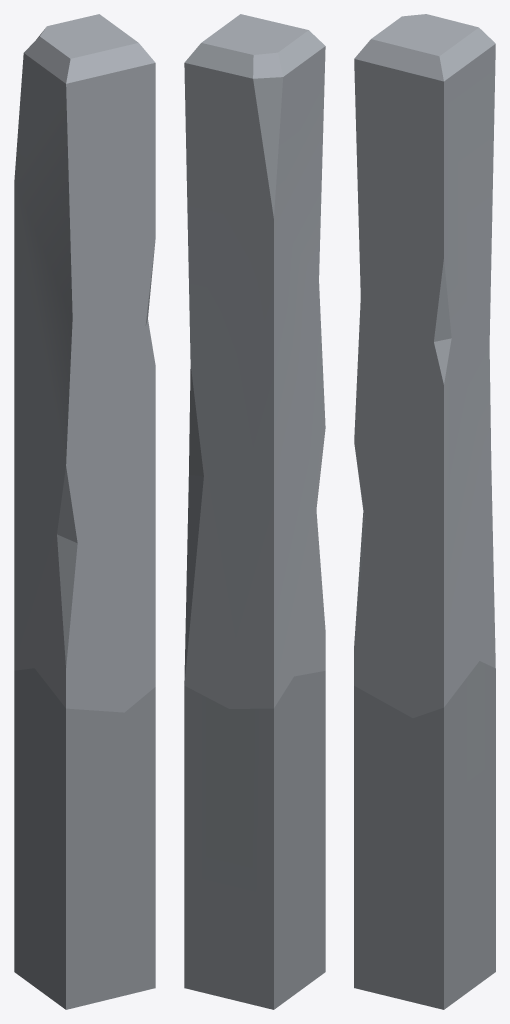
Rendered from SM_Prop_Fence_Fancy_Pole_01.glb.
3 renders of one model, left to right at view 1: azimuth 30°, elevation 25°; view 2: azimuth 150°, elevation 25°; view 3: azimuth 330°, elevation 25°, orthographic.
Visible parts, largest first — view 1: SM_Prop_Fence_Fancy_Pole_01; view 2: SM_Prop_Fence_Fancy_Pole_01; view 3: SM_Prop_Fence_Fancy_Pole_01.
Boxes of the visible parts, x1=… form: SM_Prop_Fence_Fancy_Pole_01: x1=14, y1=14, x2=155, y2=1009; SM_Prop_Fence_Fancy_Pole_01: x1=184, y1=14, x2=325, y2=1009; SM_Prop_Fence_Fancy_Pole_01: x1=354, y1=14, x2=495, y2=1009.
Bounding box in the file's own units: 0.1683 × 1.7 × 0.1683.
Materials: 1 (1 with a texture image).
